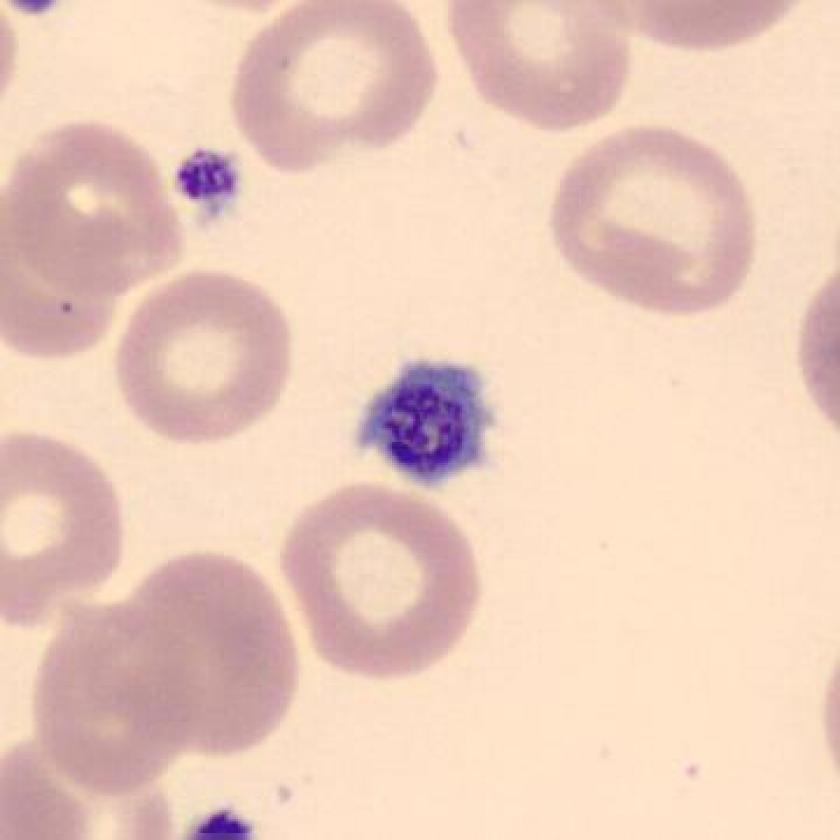platelets: (344, 346, 519, 501)
